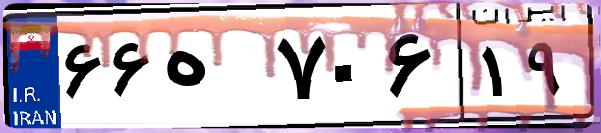0: (330, 28, 385, 110)
1: (475, 38, 525, 113)
6: (385, 28, 445, 110), (57, 26, 110, 100), (110, 28, 158, 98)
7: (270, 28, 330, 110)
9: (525, 38, 570, 115)
ه: (158, 20, 270, 120)
